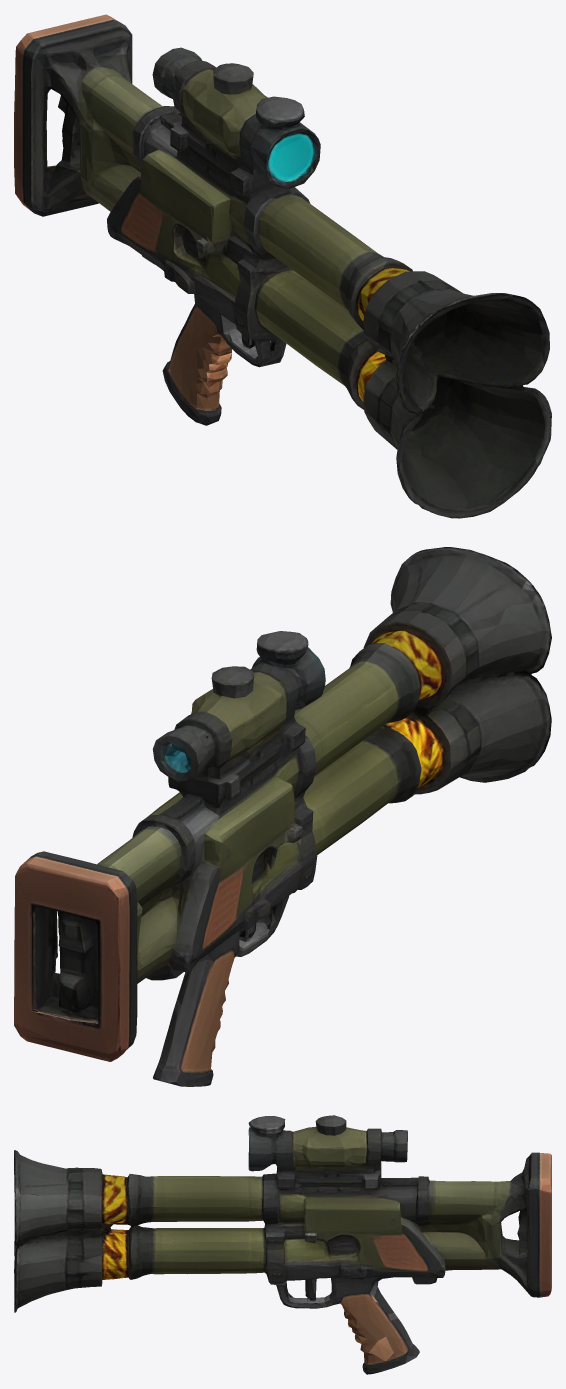
File: rocket.glb
The picture shows the model from 3 angles, top to bottom: view 1: azimuth 30°, elevation 25°; view 2: azimuth 150°, elevation 25°; view 3: azimuth 270°, elevation 25°; orthographic projection. The views are drawn at different scales.
Visible parts, largest first — view 1: geometry_0; view 2: geometry_0; view 3: geometry_0.
Boxes of the visible parts, bbox=[...] form: geometry_0: bbox=[14, 14, 551, 518]; geometry_0: bbox=[14, 547, 551, 1086]; geometry_0: bbox=[14, 1115, 551, 1374].
Bounding box in the file's own units: 0.2246 × 0.5213 × 1.
1 material, 1 textured.
